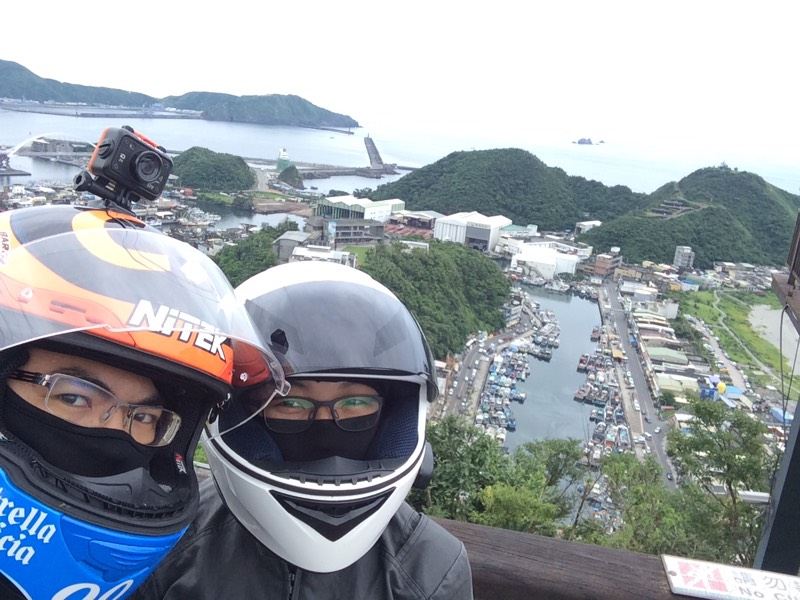helmet: (6, 208, 234, 590), (216, 260, 442, 550)
